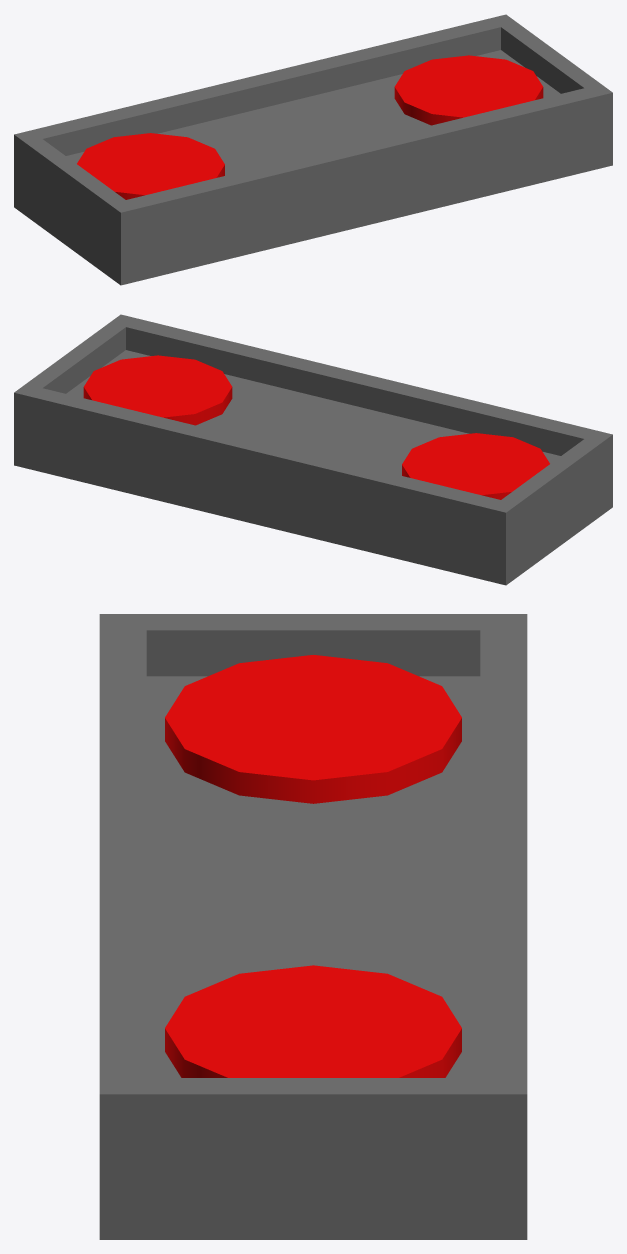
File: btn_slider.FBX
3 renders of one model, top to bottom at view 1: azimuth 30°, elevation 25°; view 2: azimuth 150°, elevation 25°; view 3: azimuth 270°, elevation 25°, orthographic. The views are drawn at different scales.
Visible parts, largest first — view 1: pCube4, Btn_OFF, Btn_ON; view 2: pCube4, Btn_OFF, Btn_ON; view 3: pCube4, Btn_ON, Btn_OFF.
Boxes of the visible parts, <box> form: pCube4: <box>14,14,612,285</box>; Btn_OFF: <box>394,55,543,125</box>; Btn_ON: <box>77,133,224,199</box>; pCube4: <box>14,314,612,585</box>; Btn_OFF: <box>83,355,232,425</box>; Btn_ON: <box>402,433,549,499</box>; pCube4: <box>99,614,527,1239</box>; Btn_ON: <box>165,655,461,803</box>; Btn_OFF: <box>165,965,461,1077</box>.
Bounding box in the file's own units: 17.1 × 2.42 × 6.43.
